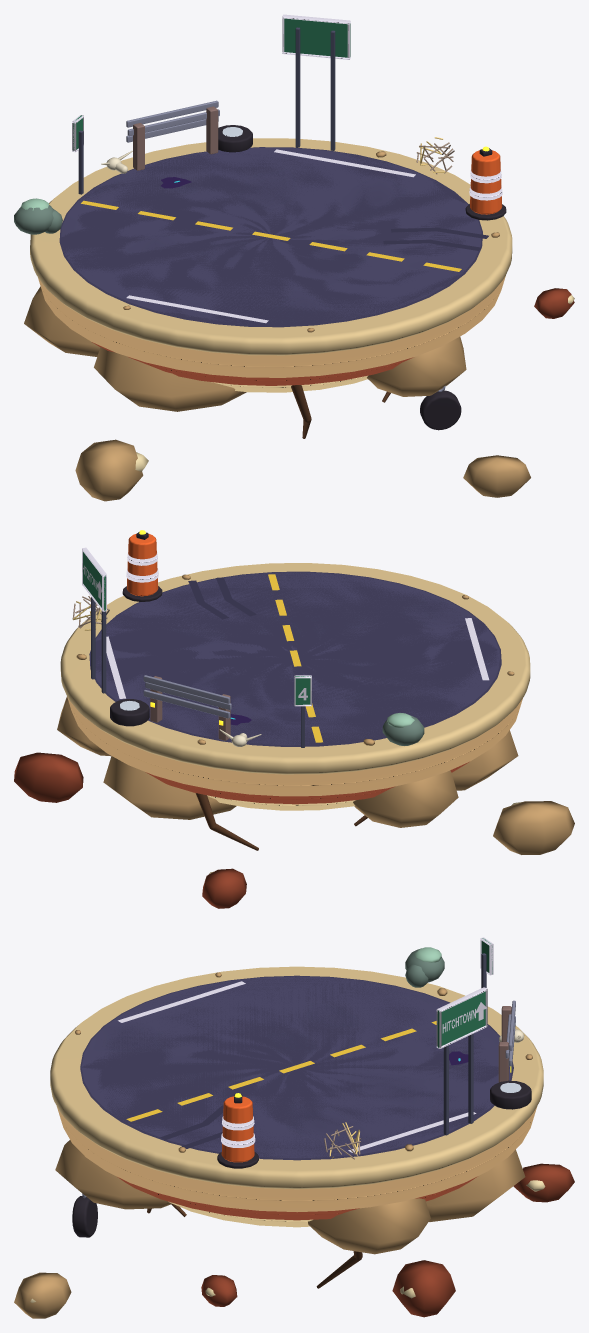
Rendered from arena_haul.glb.
3 views of the same model, one above another, from view 1: azimuth 30°, elevation 25°; view 2: azimuth 150°, elevation 25°; view 3: azimuth 270°, elevation 25° (orthographic). The views are drawn at different scales.
Visible parts, largest first — view 1: Body, Asphalt, Rim, Chunks, Markings; view 2: Body, Asphalt, Rim, Chunks, Markings; view 3: Body, Asphalt, Rim, Chunks, Markings.
Boxes of the visible parts, box(x1,y1,x2,y2) form: Body: box(24, 138, 512, 438); Asphalt: box(61, 147, 481, 324); Rim: box(14, 14, 506, 332); Chunks: box(75, 288, 574, 501); Markings: box(81, 149, 488, 323); Body: box(57, 563, 530, 850); Asphalt: box(95, 572, 499, 745); Rim: box(72, 530, 514, 747); Chunks: box(14, 752, 574, 908); Markings: box(106, 574, 489, 742); Body: box(50, 966, 543, 1288); Asphalt: box(81, 976, 512, 1158); Rim: box(75, 937, 532, 1168); Chunks: box(14, 1163, 574, 1318); Markings: box(118, 981, 476, 1152).
Size of the model in its own units: 8.38 by 5.15 by 7.94.
